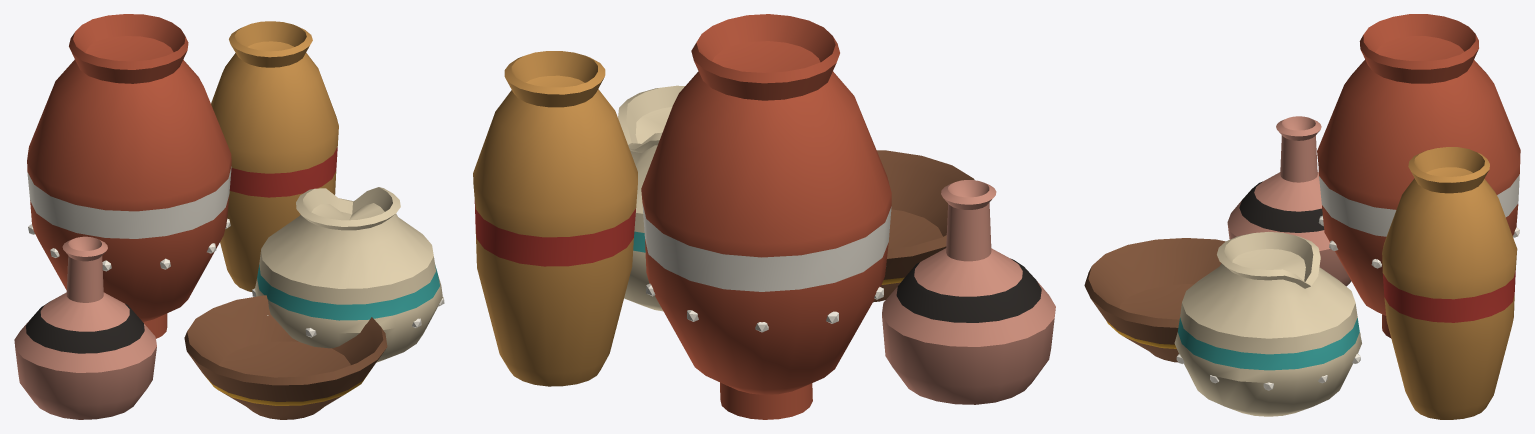
The model's file is deco_pot_cluster_five.fbx.
3 views of the same model, side by side, from view 1: azimuth 30°, elevation 25°; view 2: azimuth 150°, elevation 25°; view 3: azimuth 270°, elevation 25° (orthographic). The views are drawn at different scales.
Visible parts, largest first — view 1: PotCluster_Five_PotUrn, PotCluster_Five_PotRound, PotCluster_Five_PotTall, PotCluster_Five_PotFlask, PotCluster_Five_PotBowl; view 2: PotCluster_Five_PotUrn, PotCluster_Five_PotTall, PotCluster_Five_PotFlask, PotCluster_Five_PotBowl, PotCluster_Five_PotRound; view 3: PotCluster_Five_PotUrn, PotCluster_Five_PotTall, PotCluster_Five_PotRound, PotCluster_Five_PotBowl, PotCluster_Five_PotFlask.
Boxes of the visible parts, x1,y1,x2,y2 form: PotCluster_Five_PotUrn: [27, 14, 231, 338]; PotCluster_Five_PotRound: [252, 187, 444, 362]; PotCluster_Five_PotTall: [211, 21, 338, 291]; PotCluster_Five_PotFlask: [14, 236, 156, 419]; PotCluster_Five_PotBowl: [184, 295, 387, 419]; PotCluster_Five_PotUrn: [641, 14, 891, 419]; PotCluster_Five_PotTall: [473, 51, 637, 386]; PotCluster_Five_PotFlask: [882, 180, 1055, 404]; PotCluster_Five_PotBowl: [873, 150, 974, 302]; PotCluster_Five_PotRound: [618, 85, 684, 311]; PotCluster_Five_PotUrn: [1317, 14, 1520, 338]; PotCluster_Five_PotTall: [1382, 147, 1517, 419]; PotCluster_Five_PotRound: [1174, 232, 1361, 416]; PotCluster_Five_PotBowl: [1084, 238, 1225, 362]; PotCluster_Five_PotFlask: [1227, 116, 1351, 286].
Bounding box in the file's own units: 157 × 111 × 151.
